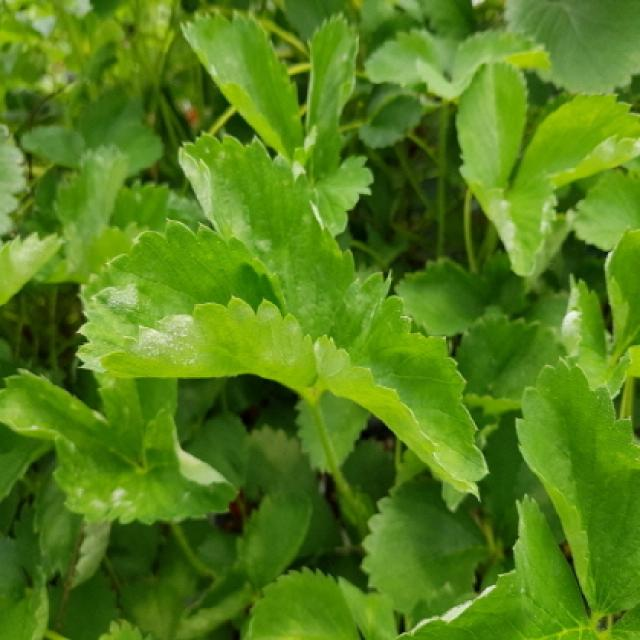Powdery Mildew Leaf: (72, 218, 316, 394), (453, 60, 640, 278), (177, 130, 358, 341), (2, 367, 239, 527), (559, 273, 631, 404), (2, 228, 68, 305)
